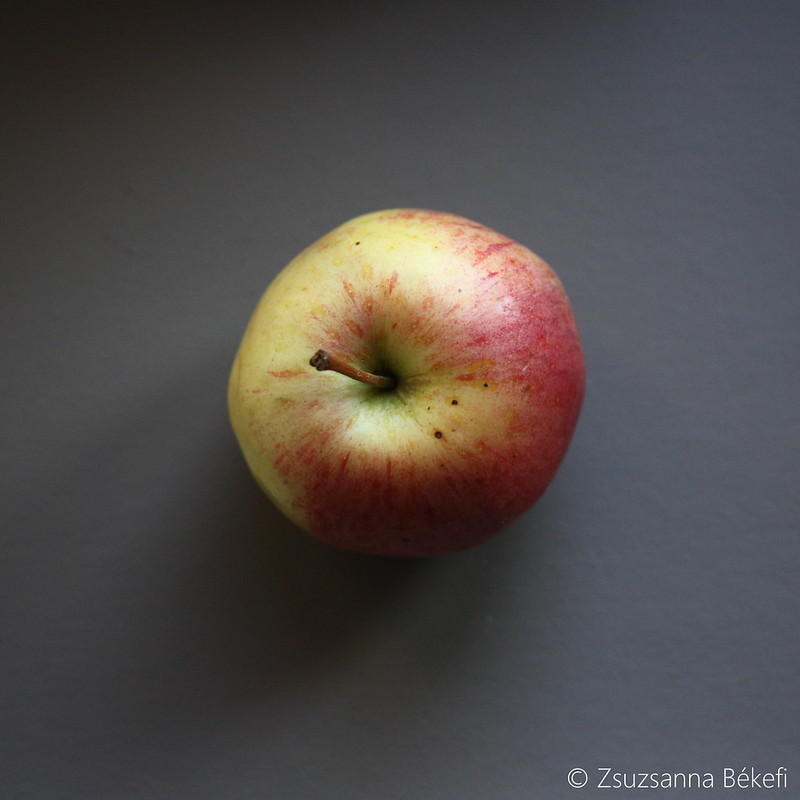apple: (205, 199, 616, 569)
